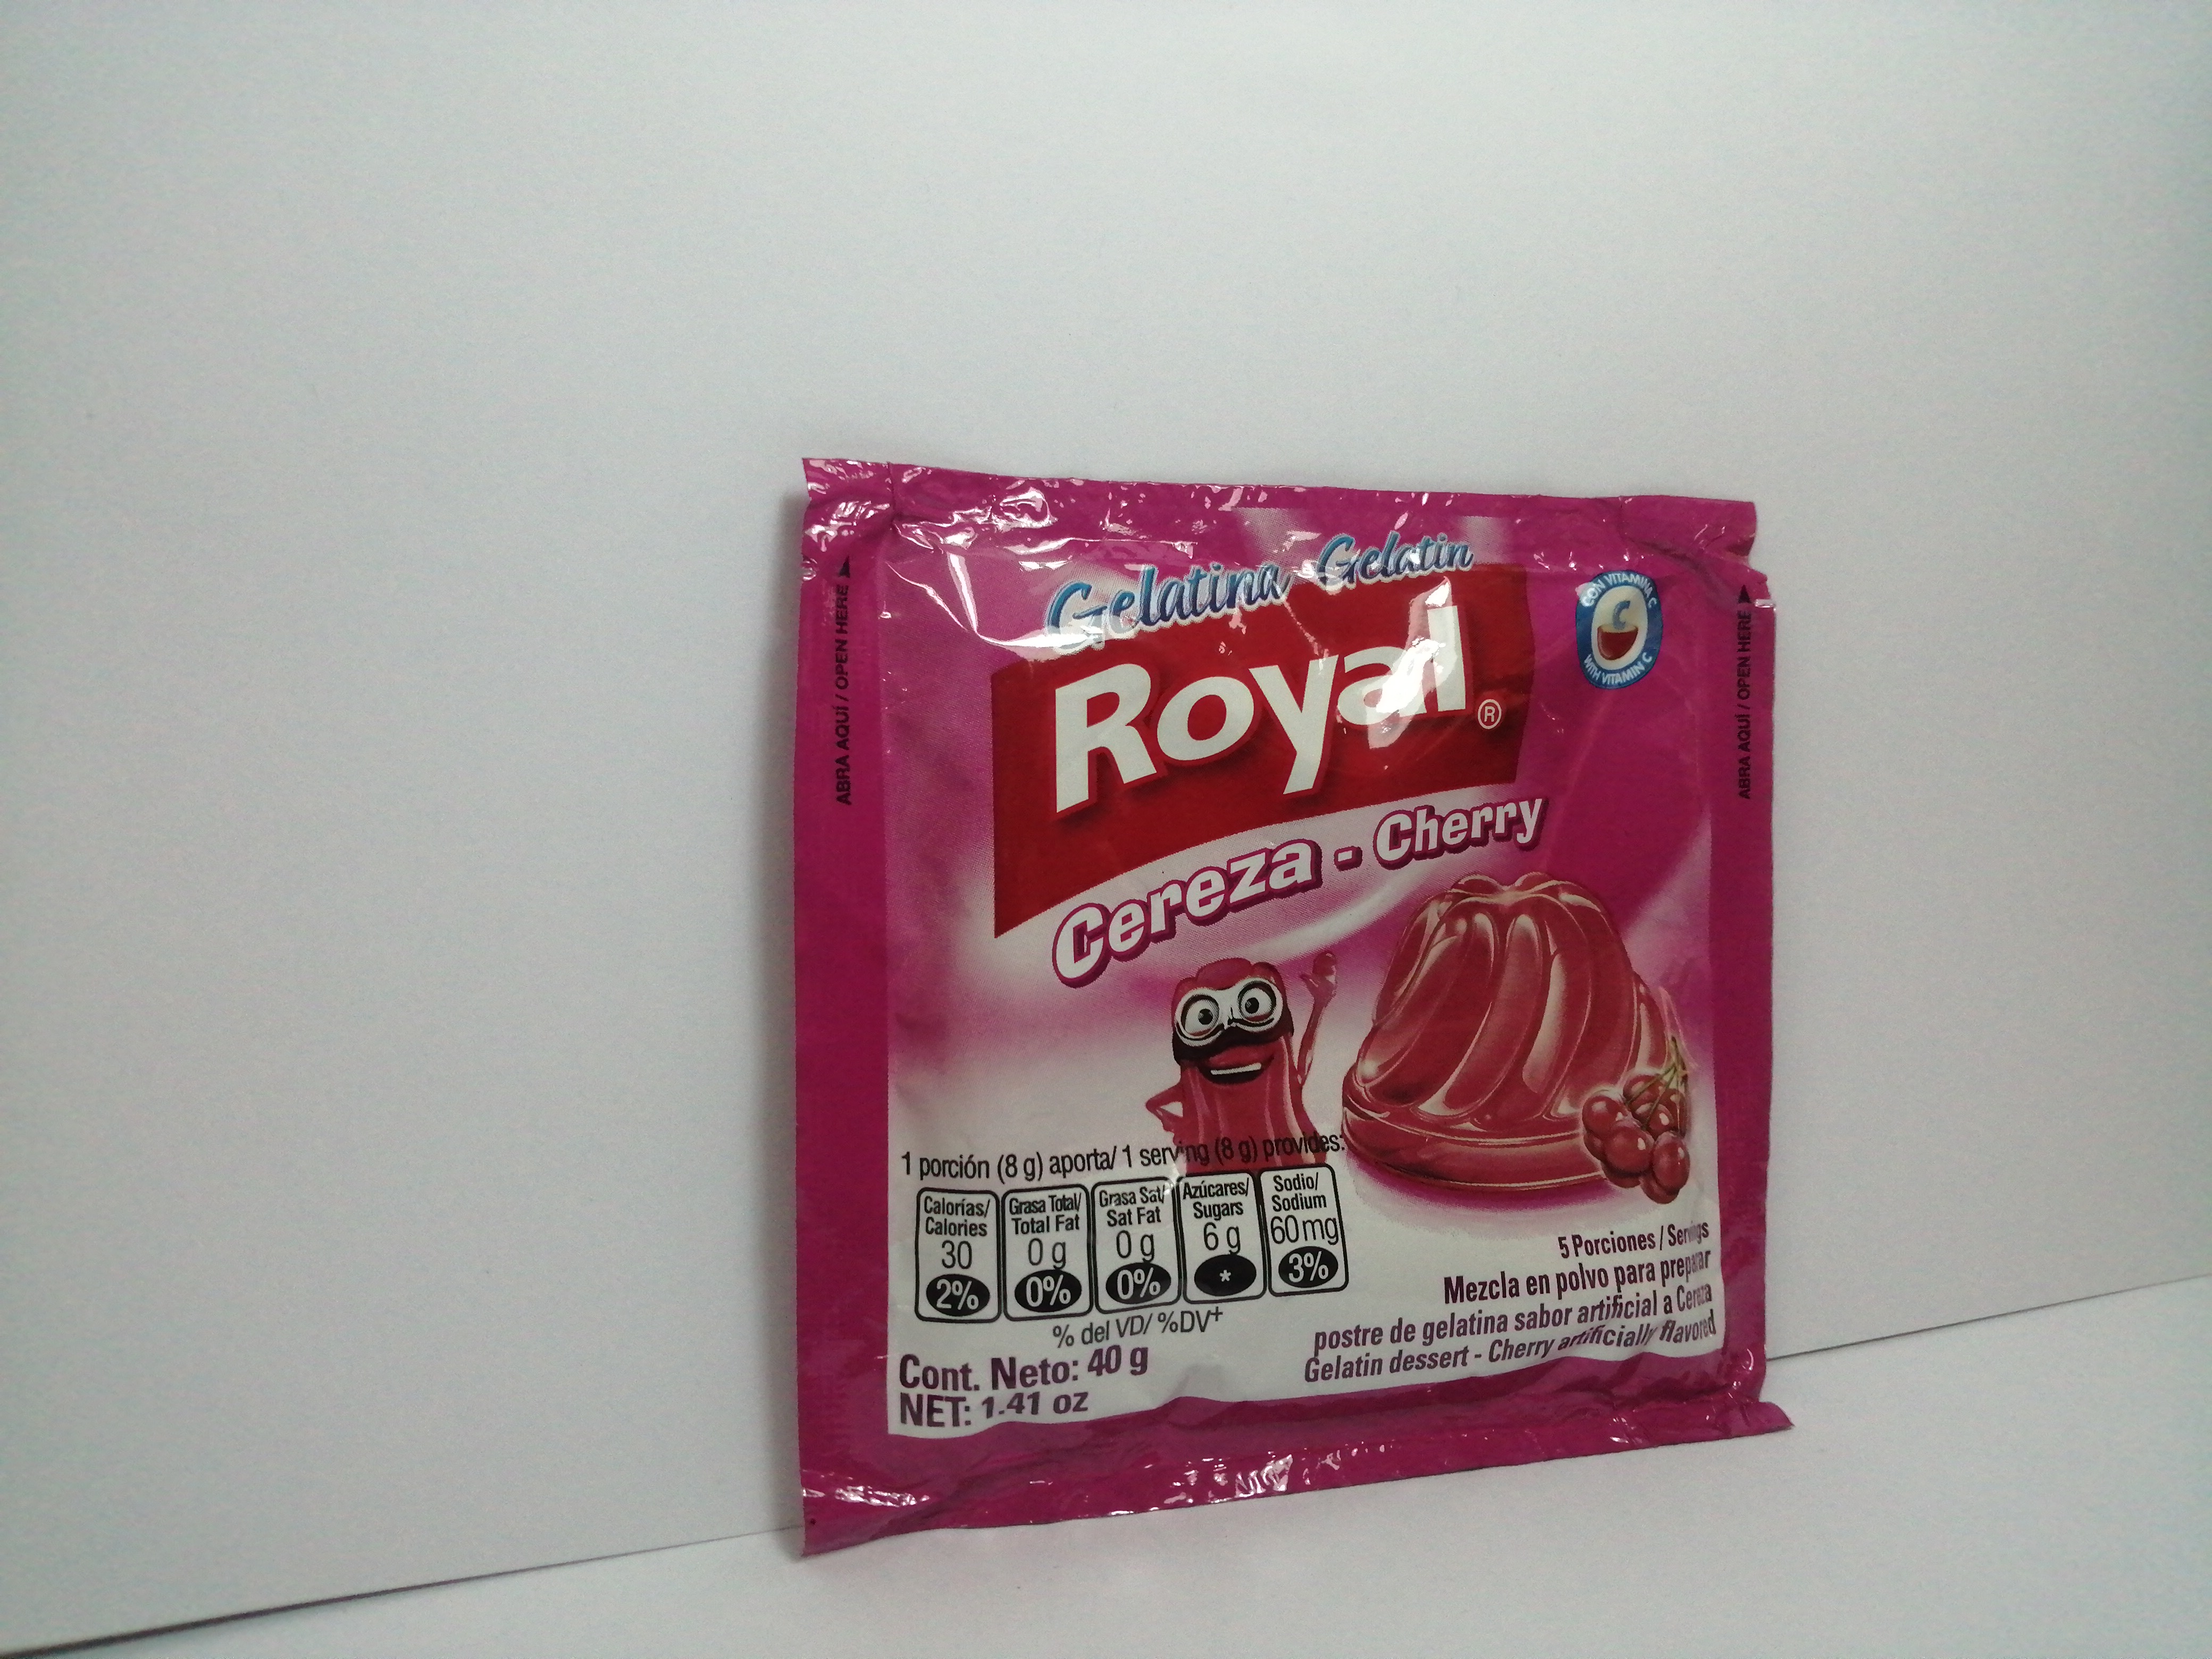gelatina: (794, 450, 1797, 1546)
